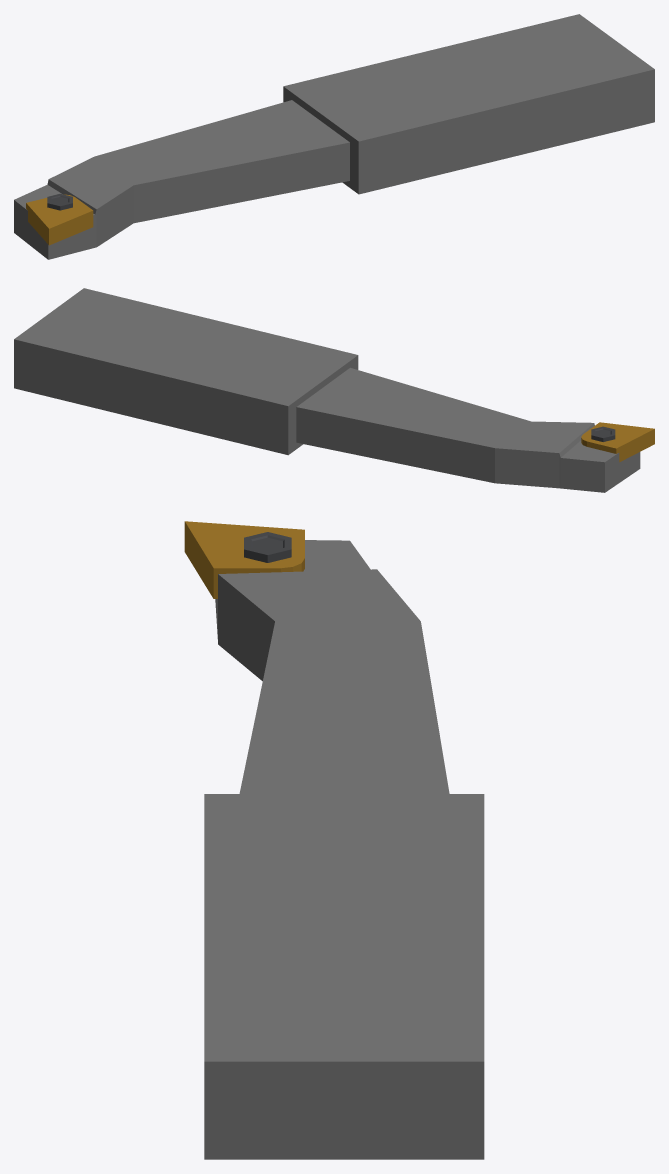
Rendered from Cutter7.fbx.
3 views of the same model, one above another, from view 1: azimuth 30°, elevation 25°; view 2: azimuth 150°, elevation 25°; view 3: azimuth 270°, elevation 25° (orthographic). The views are drawn at different scales.
Parts seen in each view (by area): view 1: Cutter-7; view 2: Cutter-7; view 3: Cutter-7.
Boxes of the visible parts, x1,y1,x2,y2 form: Cutter-7: (14,14,654,259); Cutter-7: (14,288,654,492); Cutter-7: (184,521,484,1159).
Bounding box in the file's own units: 133 × 10.99 × 30.39.
